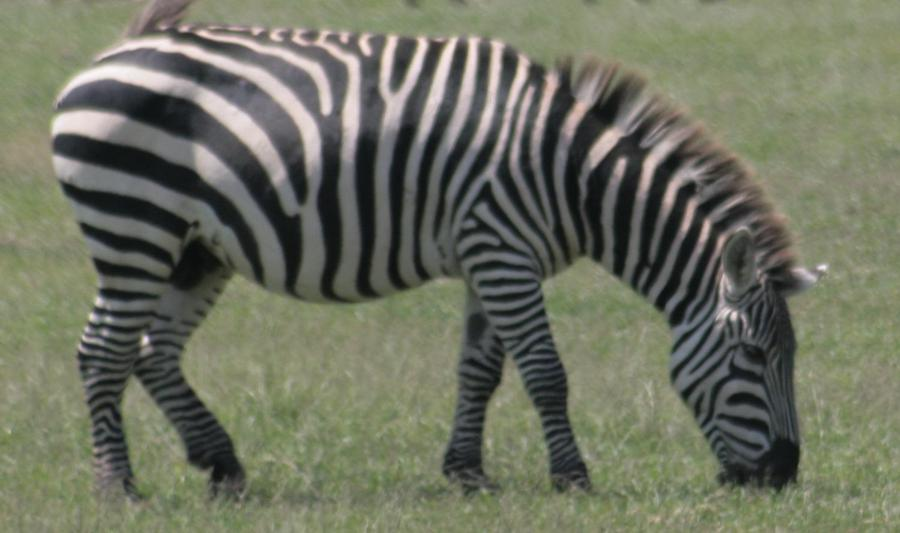zebra_plains: (38, 8, 582, 346)
